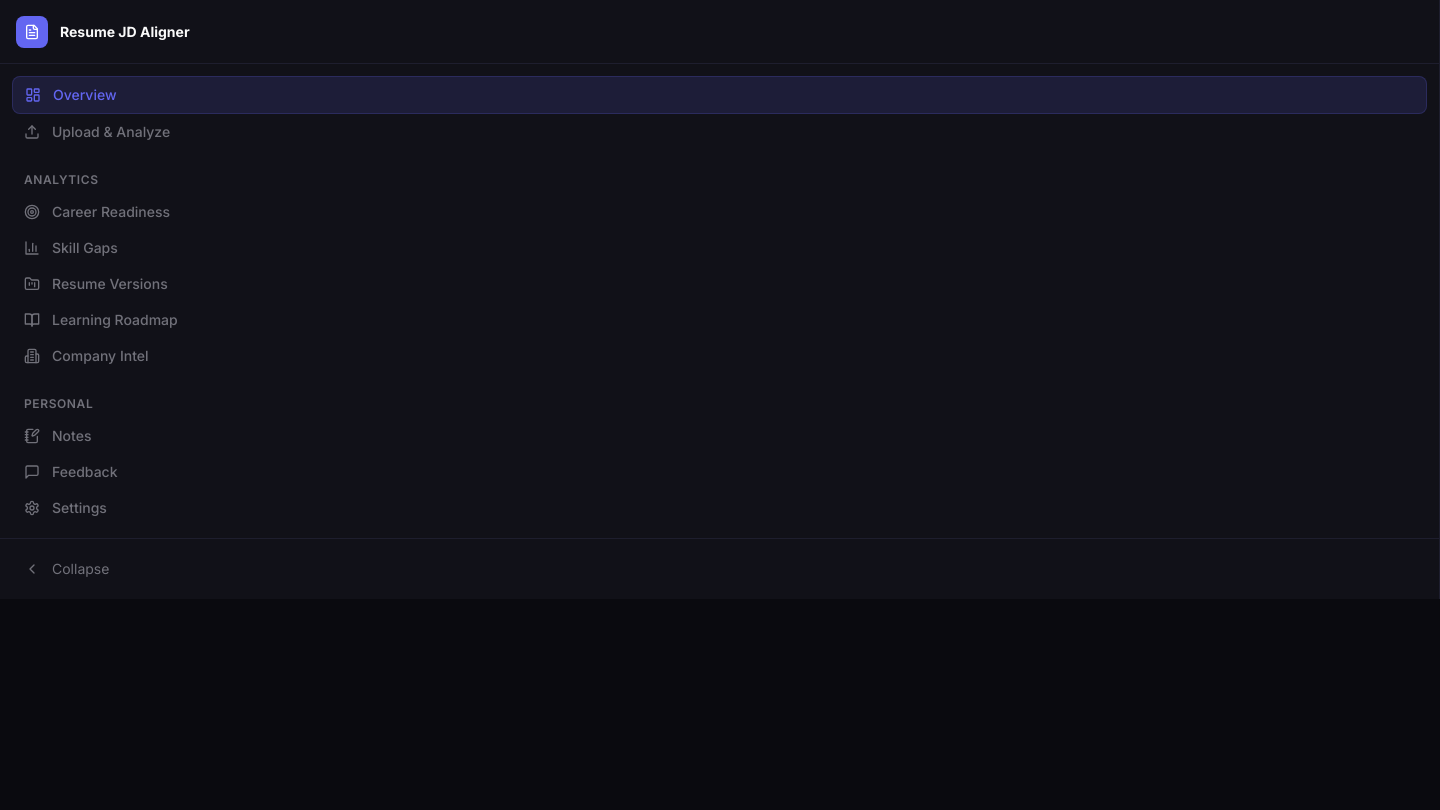
Scenario: Sidebar › hides the labels once collapsed
The width and height of the screenshot is (1440, 810).
Click the button "Collapse": click(81, 568) left=12, top=551, right=1427, bottom=587
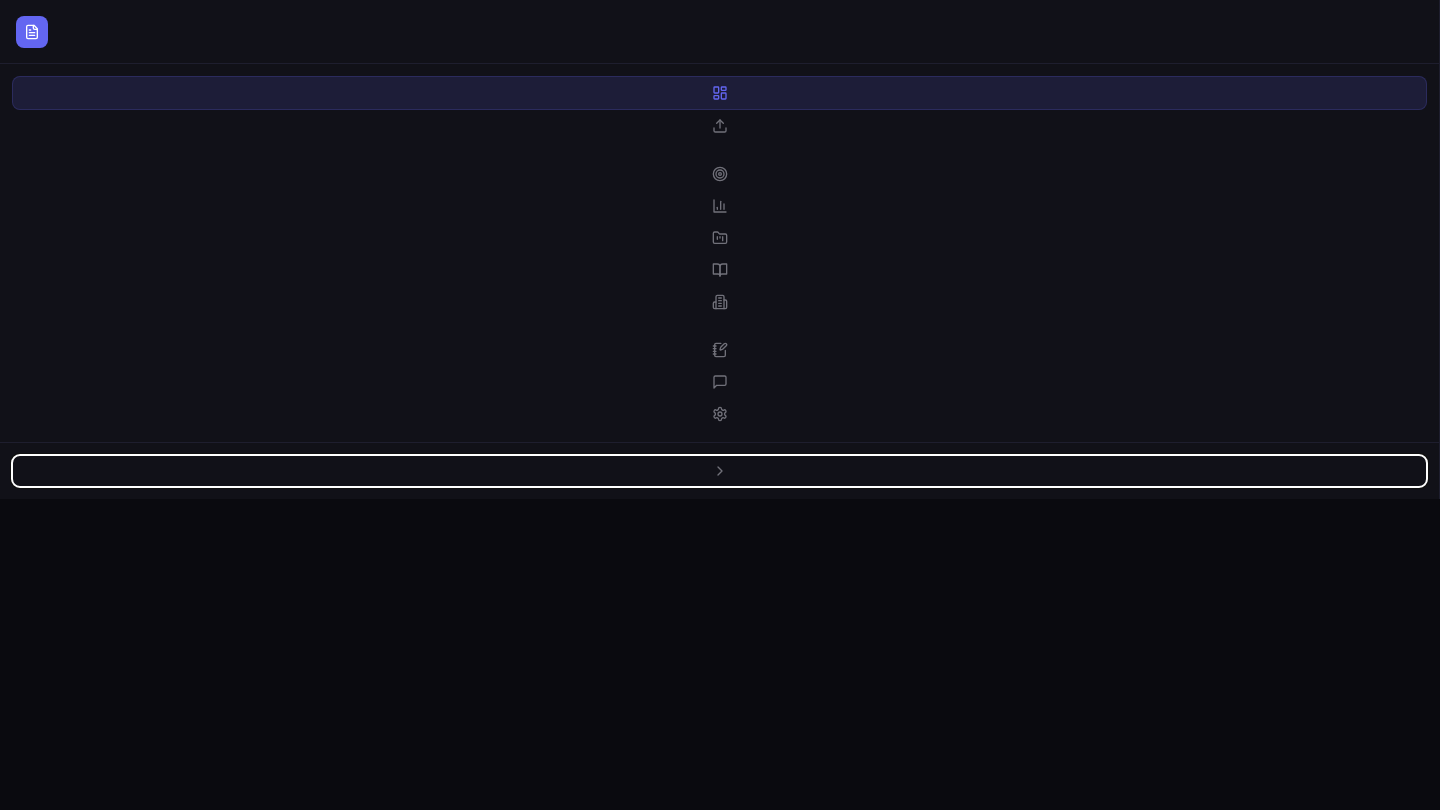
Expected: the text "Overview" is gone
Expected: the text "Analytics" is gone
